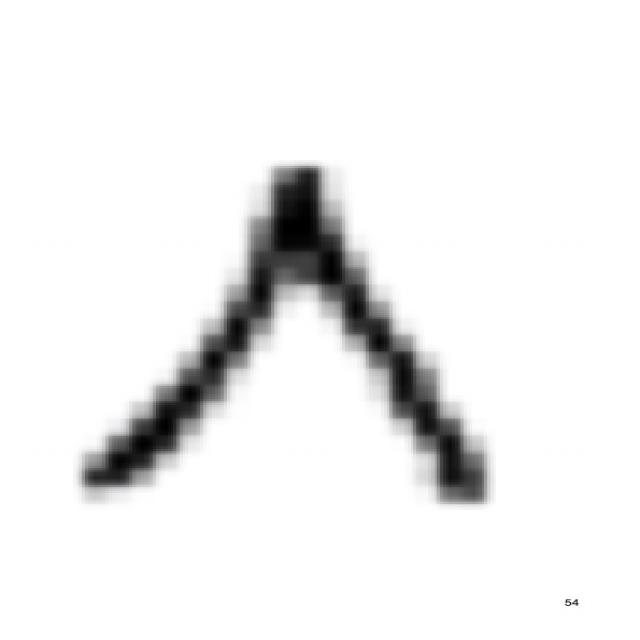8 -eight-: (56, 143, 514, 523)
